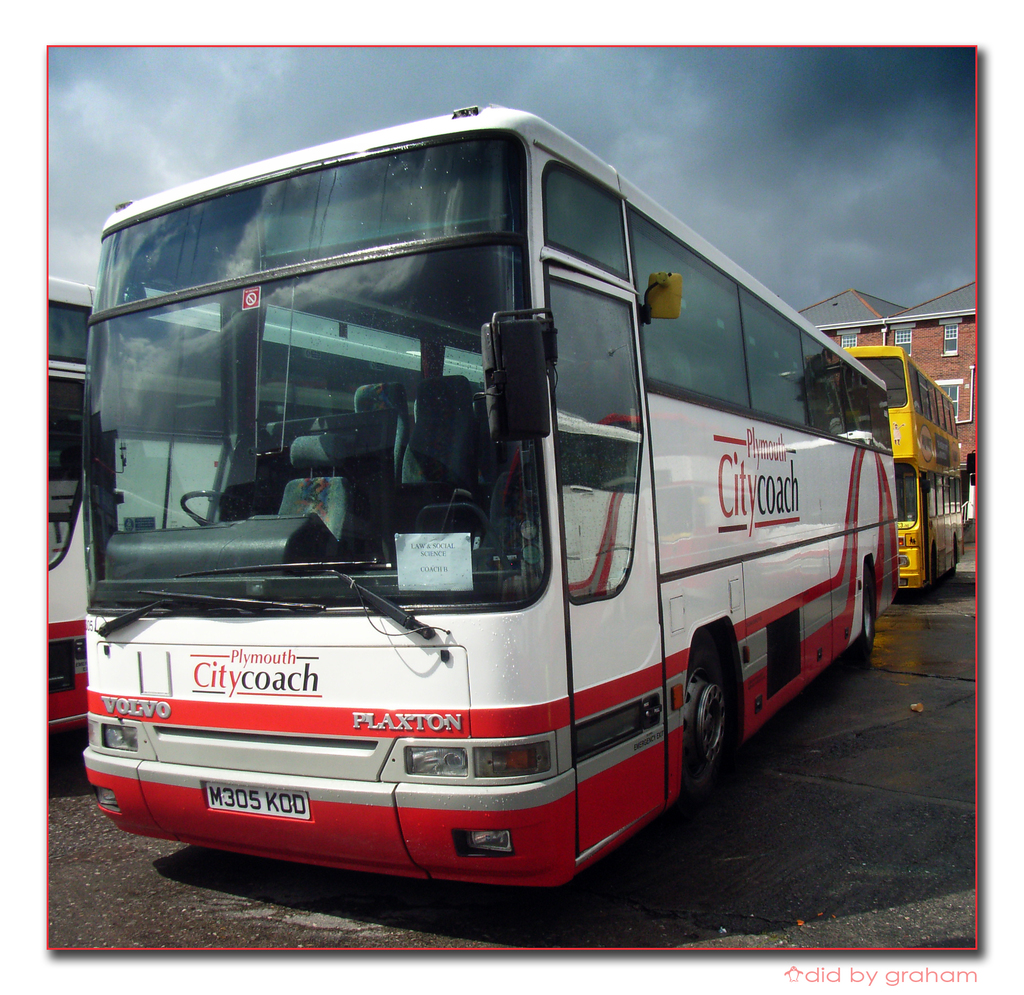Bus: (78, 109, 899, 895), (42, 279, 494, 735), (841, 344, 967, 599)
